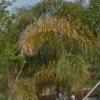Palm tree: (15, 7, 96, 92)
